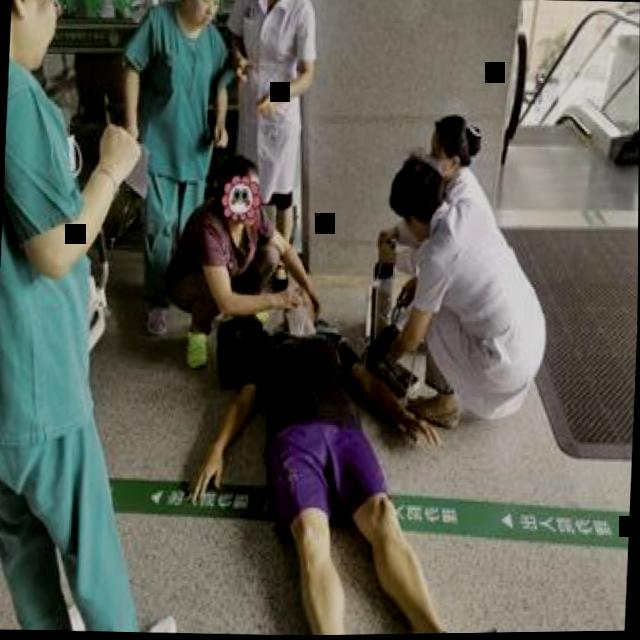Fall-Detected: (180, 285, 546, 638)
